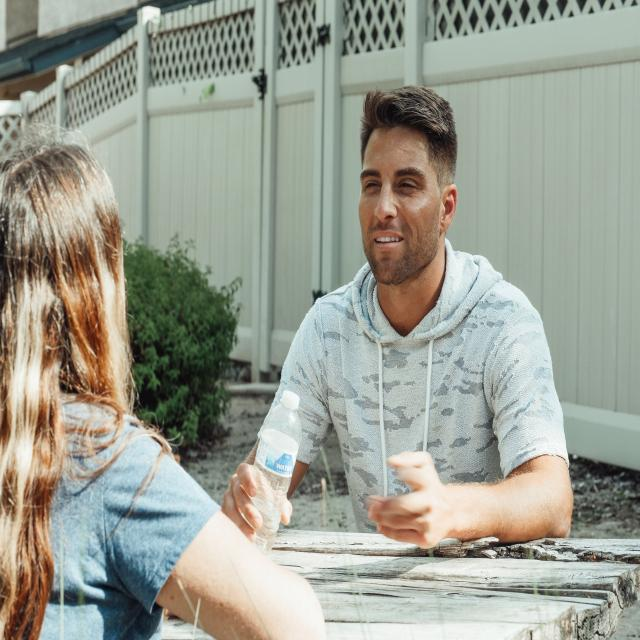bottle: (239, 389, 303, 554)
